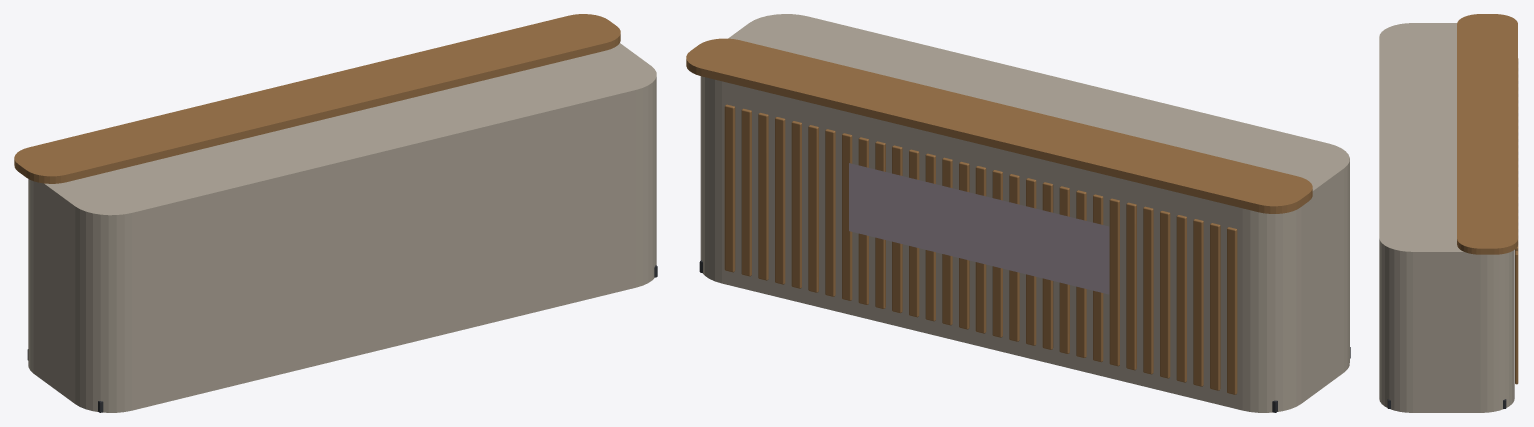
The model's file is reception-desk.glb.
3 renders of one model, left to right at view 1: azimuth 30°, elevation 25°; view 2: azimuth 150°, elevation 25°; view 3: azimuth 270°, elevation 25°, orthographic. The views are drawn at different scales.
Visible parts, largest first — view 1: toon_wood; view 2: toon_wood, toon_print; view 3: toon_wood.
Boxes of the visible parts, x1,y1,x2,y2 form: toon_wood: (14, 14, 656, 412); toon_wood: (686, 14, 1349, 412); toon_print: (849, 163, 1109, 294); toon_wood: (1379, 14, 1518, 412).
Size of the model in its own units: 3.28 by 1.09 by 0.83.
